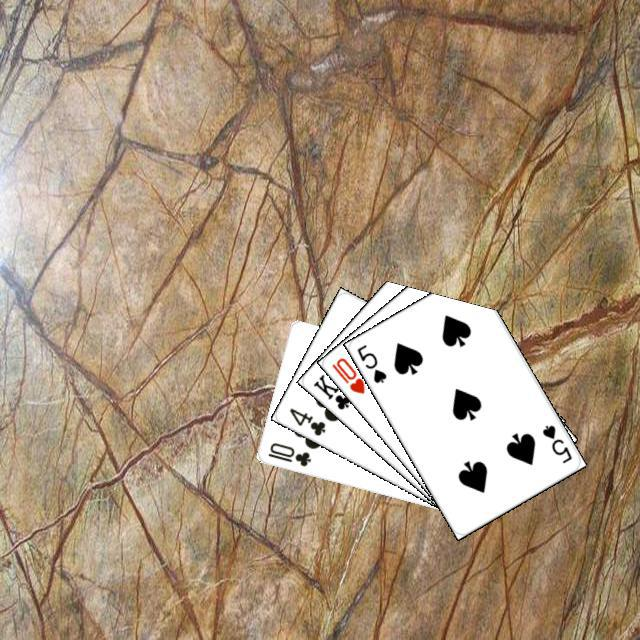10c: (263, 437, 313, 468)
10h: (327, 353, 367, 396)
4c: (284, 403, 327, 437)
5s: (537, 420, 574, 465), (352, 339, 388, 385)
Kc: (308, 369, 360, 411)
